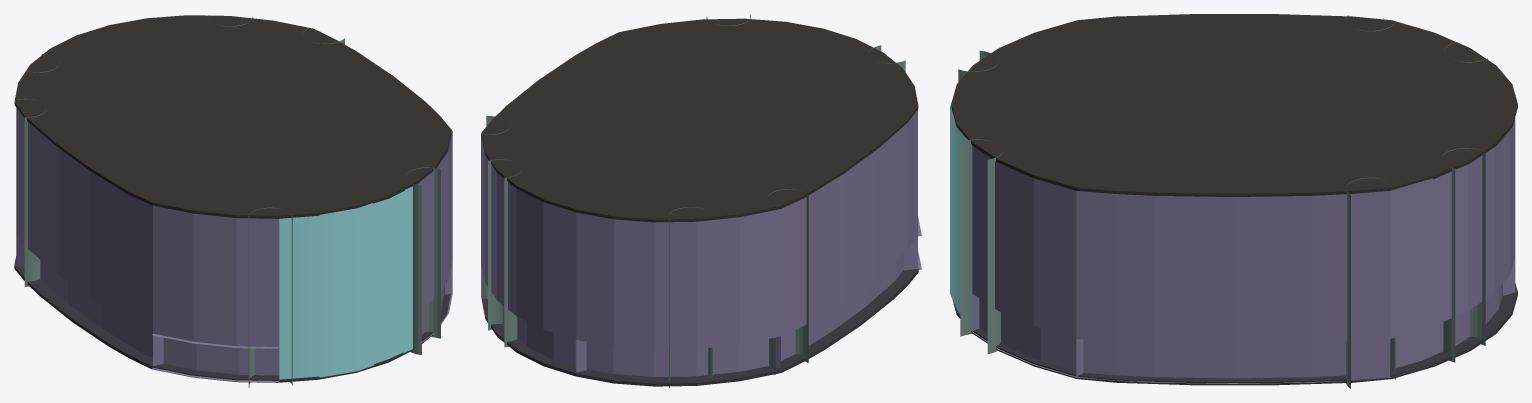
Rendered from 2room_no_color.fbx.
3 views of the same model, side by side, from view 1: azimuth 30°, elevation 25°; view 2: azimuth 150°, elevation 25°; view 3: azimuth 270°, elevation 25° (orthographic). The views are drawn at different scales.
Visible parts, largest first — view 1: ceiling, wall, glass, floor, column5, column1, column6; view 2: ceiling, wall, floor, column3, column1, column2; view 3: wall, ceiling, floor, column5, glass, column3, column4.
Part boxes in pixels (x1=…): ceiling: x1=14, y1=15, x2=451, y2=218; wall: x1=16, y1=108, x2=452, y2=382; glass: x1=279, y1=186, x2=412, y2=379; floor: x1=14, y1=256, x2=450, y2=382; column5: x1=405, y1=167, x2=440, y2=354; column1: x1=17, y1=98, x2=46, y2=286; column6: x1=248, y1=207, x2=292, y2=387; ceiling: x1=481, y1=18, x2=918, y2=222; wall: x1=481, y1=109, x2=921, y2=376; floor: x1=481, y1=267, x2=918, y2=386; column3: x1=488, y1=159, x2=521, y2=347; column1: x1=768, y1=189, x2=808, y2=374; column2: x1=668, y1=207, x2=712, y2=388; wall: x1=972, y1=117, x2=1515, y2=383; ceiling: x1=951, y1=14, x2=1517, y2=196; floor: x1=952, y1=283, x2=1517, y2=385; column5: x1=960, y1=139, x2=1002, y2=353; glass: x1=950, y1=101, x2=972, y2=331; column3: x1=1441, y1=148, x2=1485, y2=362; column4: x1=1346, y1=177, x2=1395, y2=388.
Bounding box in the file's own units: 5634 × 2819 × 7460.
